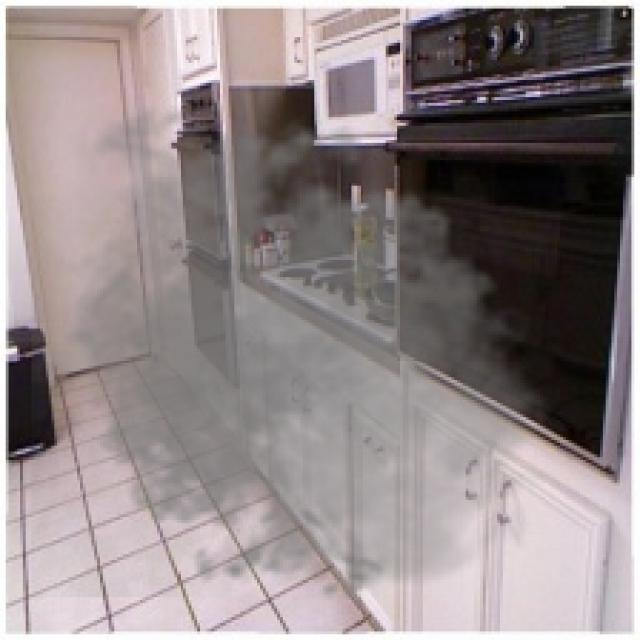smoke: (31, 91, 572, 608)
